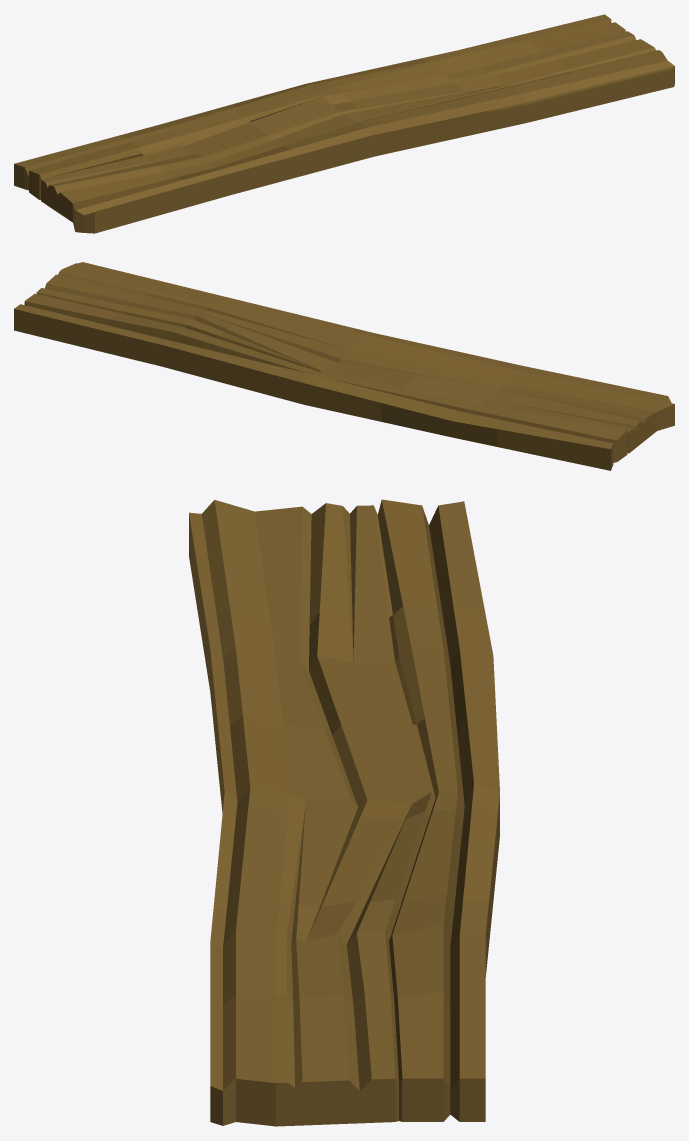
The model's file is tree_s.fbx.
3 views of the same model, one above another, from view 1: azimuth 30°, elevation 25°; view 2: azimuth 150°, elevation 25°; view 3: azimuth 270°, elevation 25° (orthographic). The views are drawn at different scales.
Parts seen in each view (by area): view 1: Cube.002, Cube.005, Cube.003, Cube, Cube.001, Cube.004; view 2: Cube.002, Cube.005, Cube.001, Cube.003, Cube, Cube.004; view 3: Cube.004, Cube.005, Cube.002, Cube.003, Cube.001, Cube.
Boxes of the visible parts, x1,y1,x2,y2 form: Cube.002: (14,135,189,233); Cube.005: (119,105,299,206); Cube.003: (422,35,589,130); Cube: (325,58,490,151); Cube.001: (230,79,394,176); Cube.004: (520,14,674,107); Cube.002: (496,375,674,470); Cube.005: (381,350,566,446); Cube.001: (285,328,450,421); Cube.003: (98,282,262,374); Cube: (194,305,353,399); Cube.004: (14,262,166,350); Cube.004: (210,991,485,1126); Cube.005: (204,606,496,760); Cube.002: (189,499,485,650); Cube.003: (210,893,488,1013); Cube.001: (217,714,499,850); Cube: (213,803,498,943).
Bounding box in the file's own units: 318 × 13.71 × 71.59.
